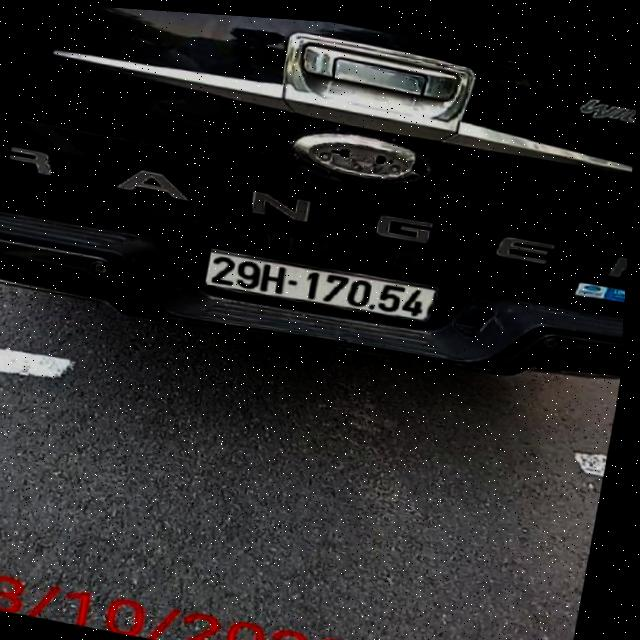car: (0, 0, 640, 411)
plate: (206, 245, 448, 333)
